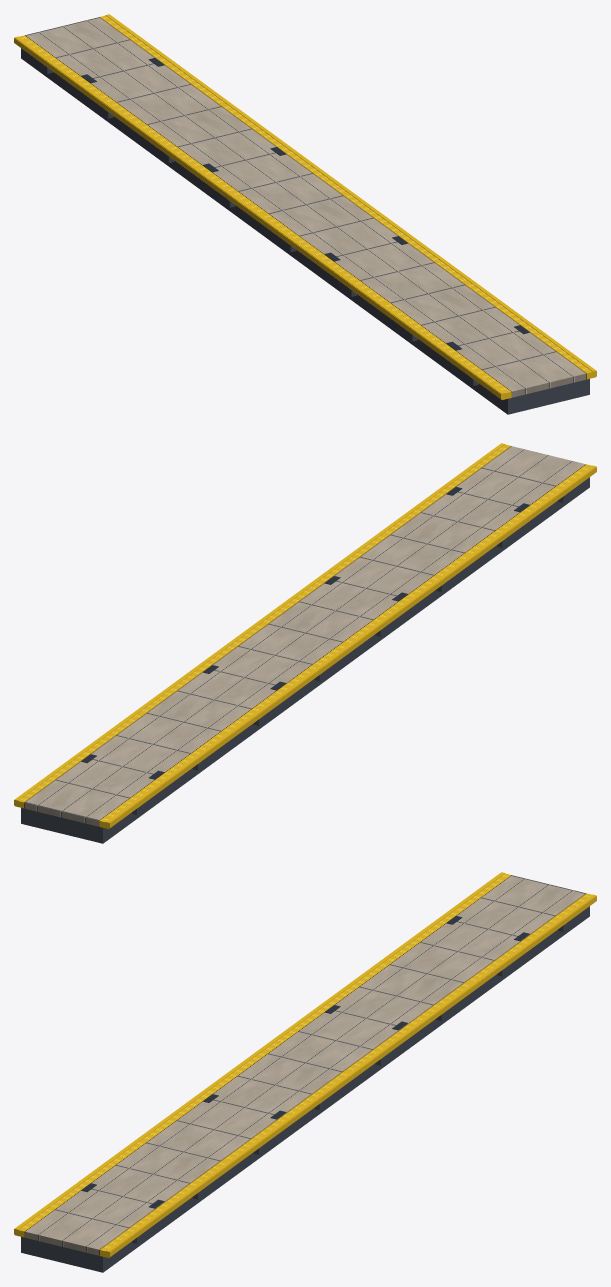
Rendered from anden_tramo.glb.
3 views of the same model, one above another, from view 1: azimuth 30°, elevation 25°; view 2: azimuth 150°, elevation 25°; view 3: azimuth 330°, elevation 25° (orthographic).
Visible parts, largest first — view 1: Anden_Tramo; view 2: Anden_Tramo; view 3: Anden_Tramo.
Part boxes in pixels (x1,y1,x2,y2): Anden_Tramo: (14, 14, 596, 414); Anden_Tramo: (14, 443, 596, 843); Anden_Tramo: (14, 872, 596, 1272).
Size of the model in its own units: 3.64 by 0.816 by 32.
Materials: 4 (1 with a texture image).
